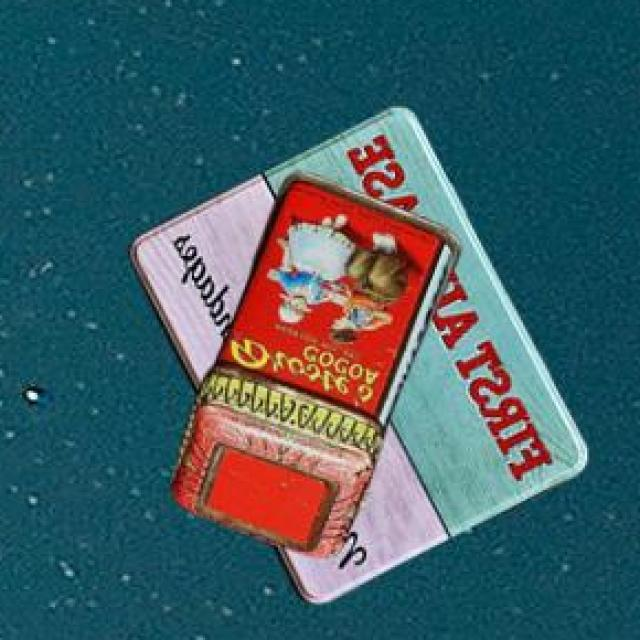logam: (127, 111, 584, 606), (169, 175, 458, 559)
